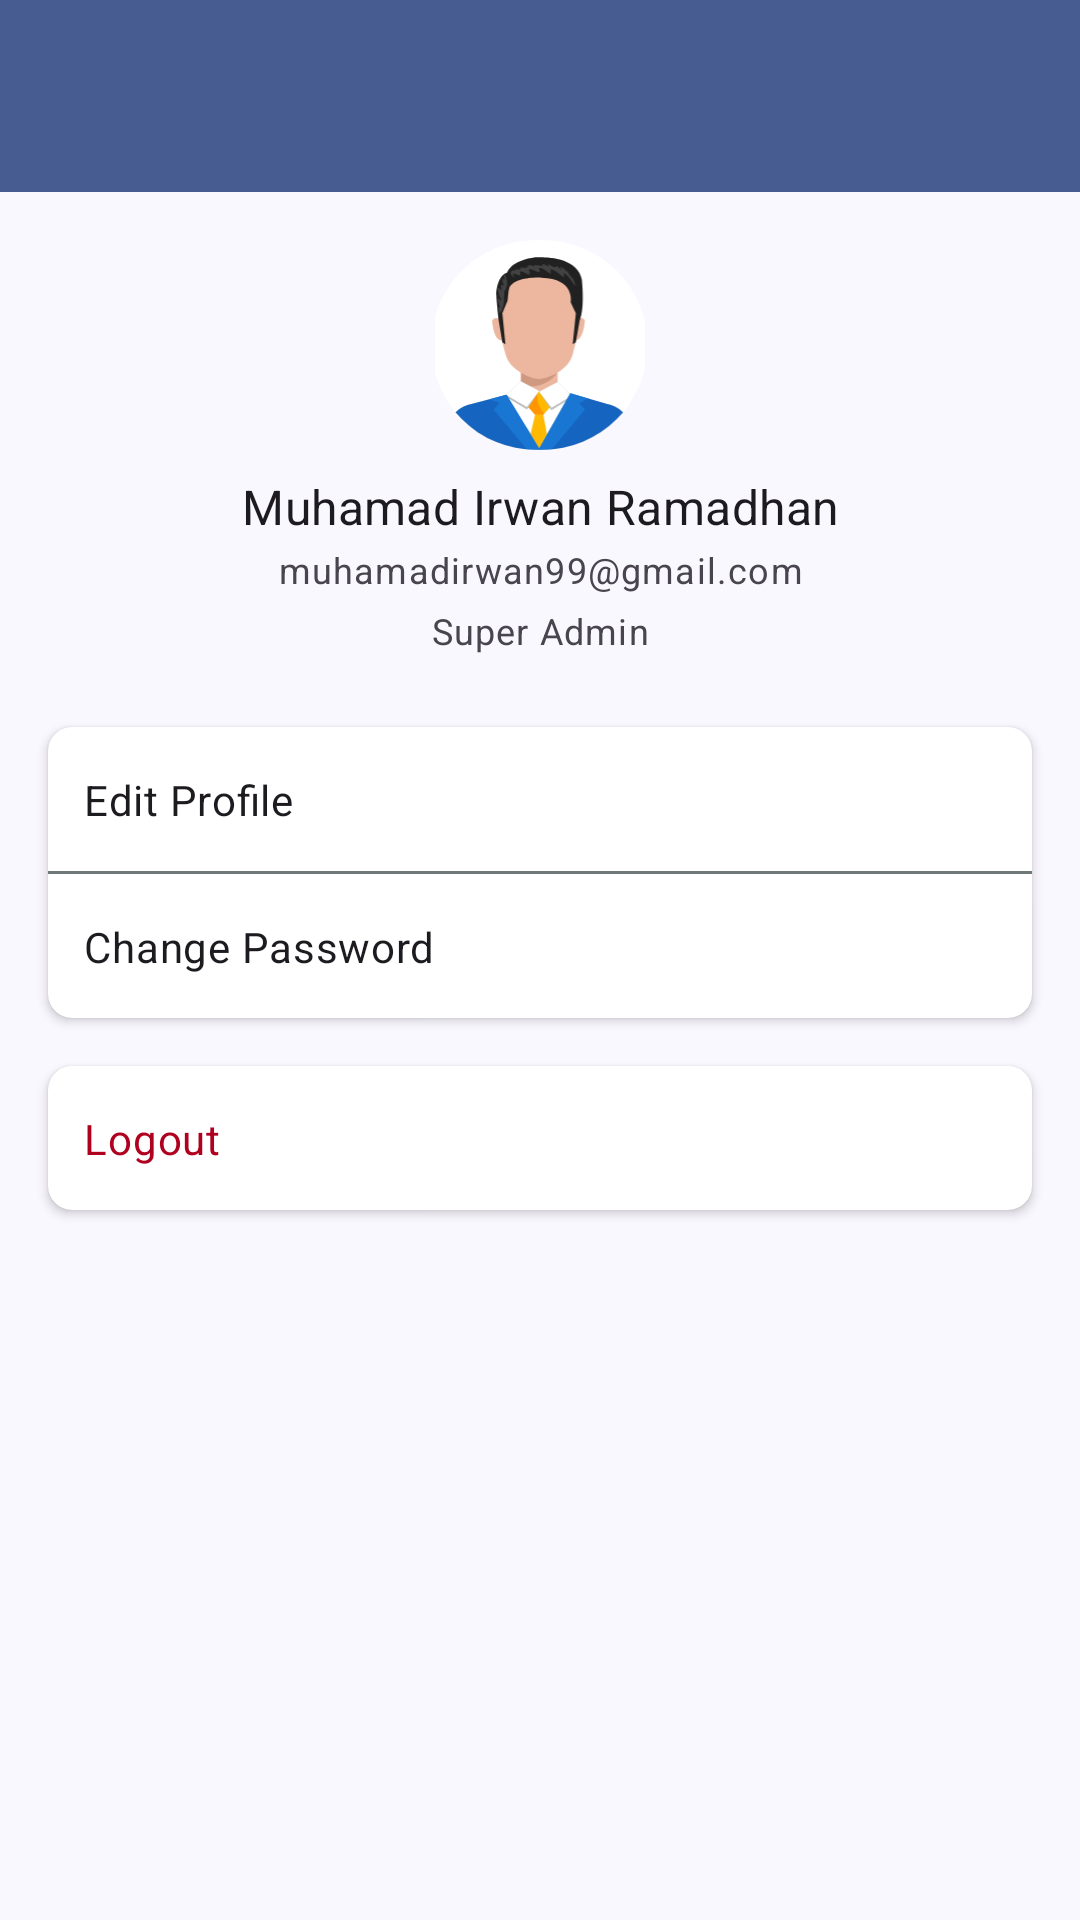

Screen size 1080w x 1920h. Icon name, then its center in pixels as [x,y]:
profil: [539,353]
